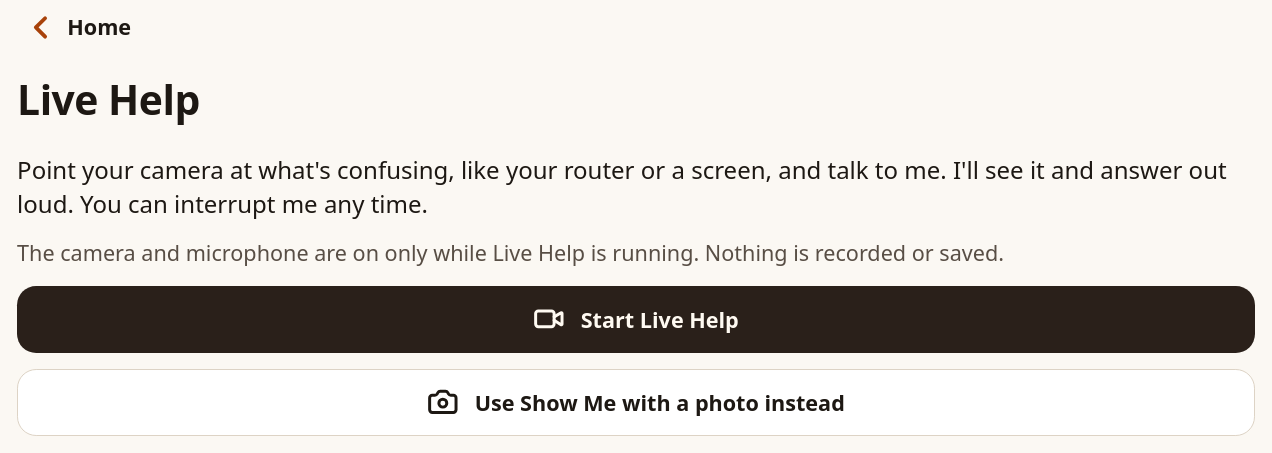
Live Help screen › a camera that won't start falls back to Show Me, with the reason
Click the button "Start Live Help": (636, 319) [17,286,1255,353]
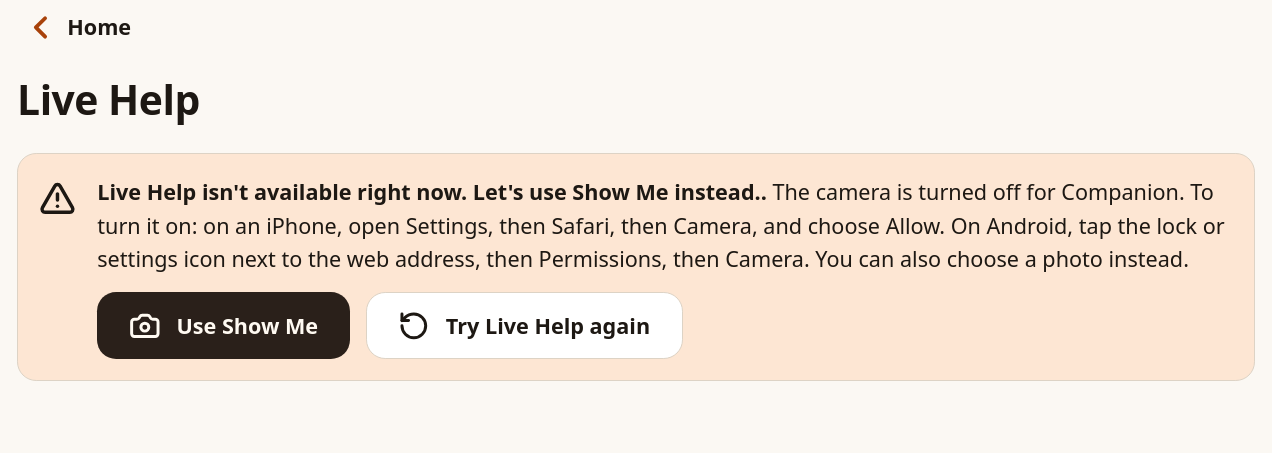
Now the text "Live Help isn't available right now. Let's use Show Me instead." is shown, box [97,177,761,206]
Now the button "Use Show Me" is shown, box [97,292,350,359]
